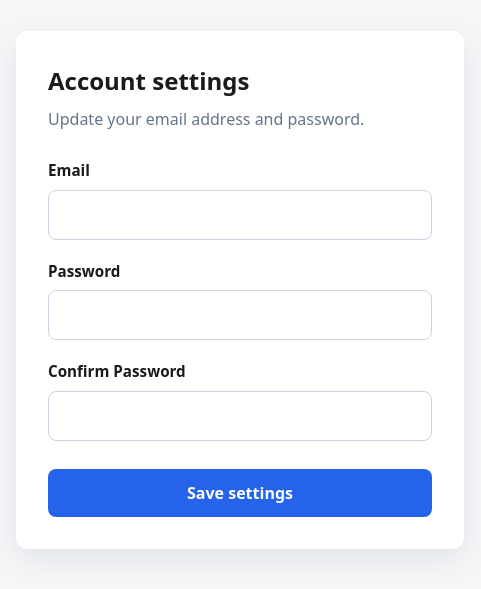
Test case: SettingsForm › shows password validation errors
The image size is (481, 589).
Type "user@example.com" into the field labelled "Email" at (240, 215), box [48,190,432,240]
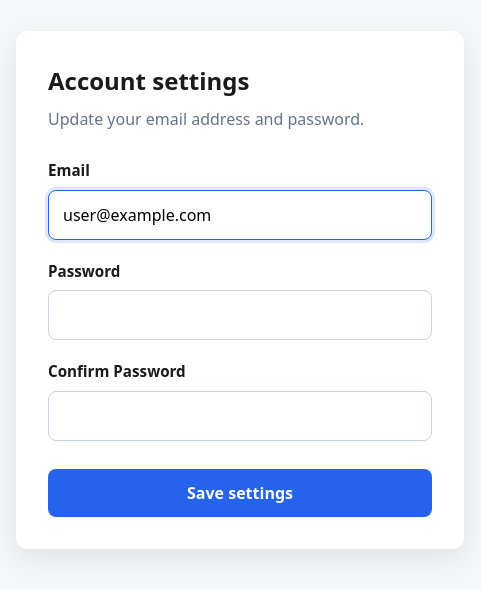
Type "short" into the password field labelled "Password" at (240, 315), box [48,290,432,340]
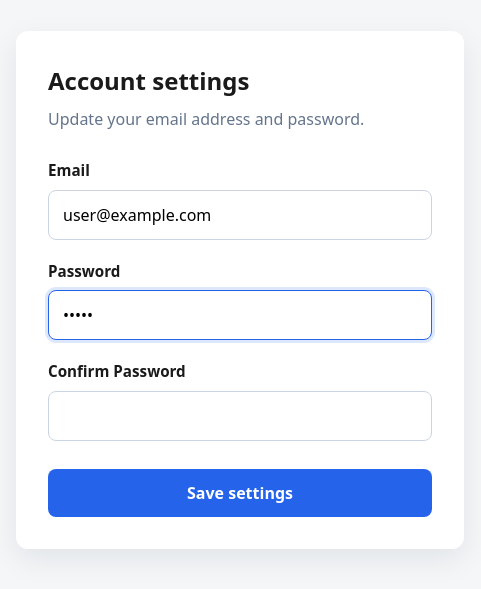
Type "short" into the password field labelled "Confirm Password" at (240, 416), box [48,391,432,441]
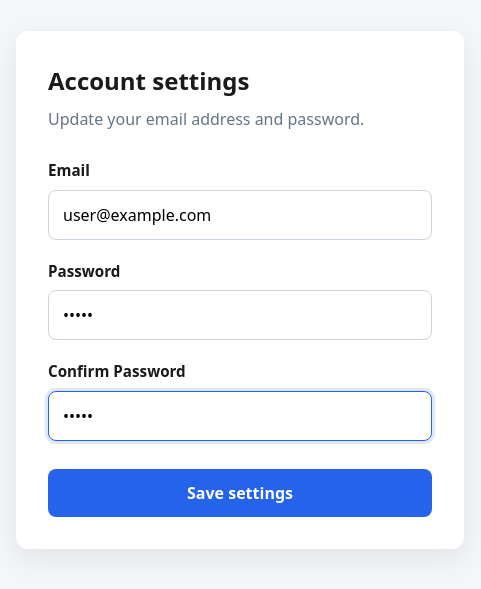
Click the button "Save settings" at (240, 493), box [48,469,432,517]
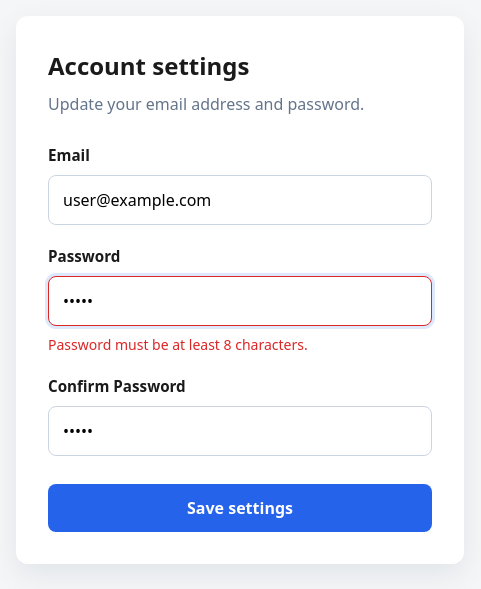
Now the text "Password must be at least 8 characters." is shown, box [48,335,308,354]
